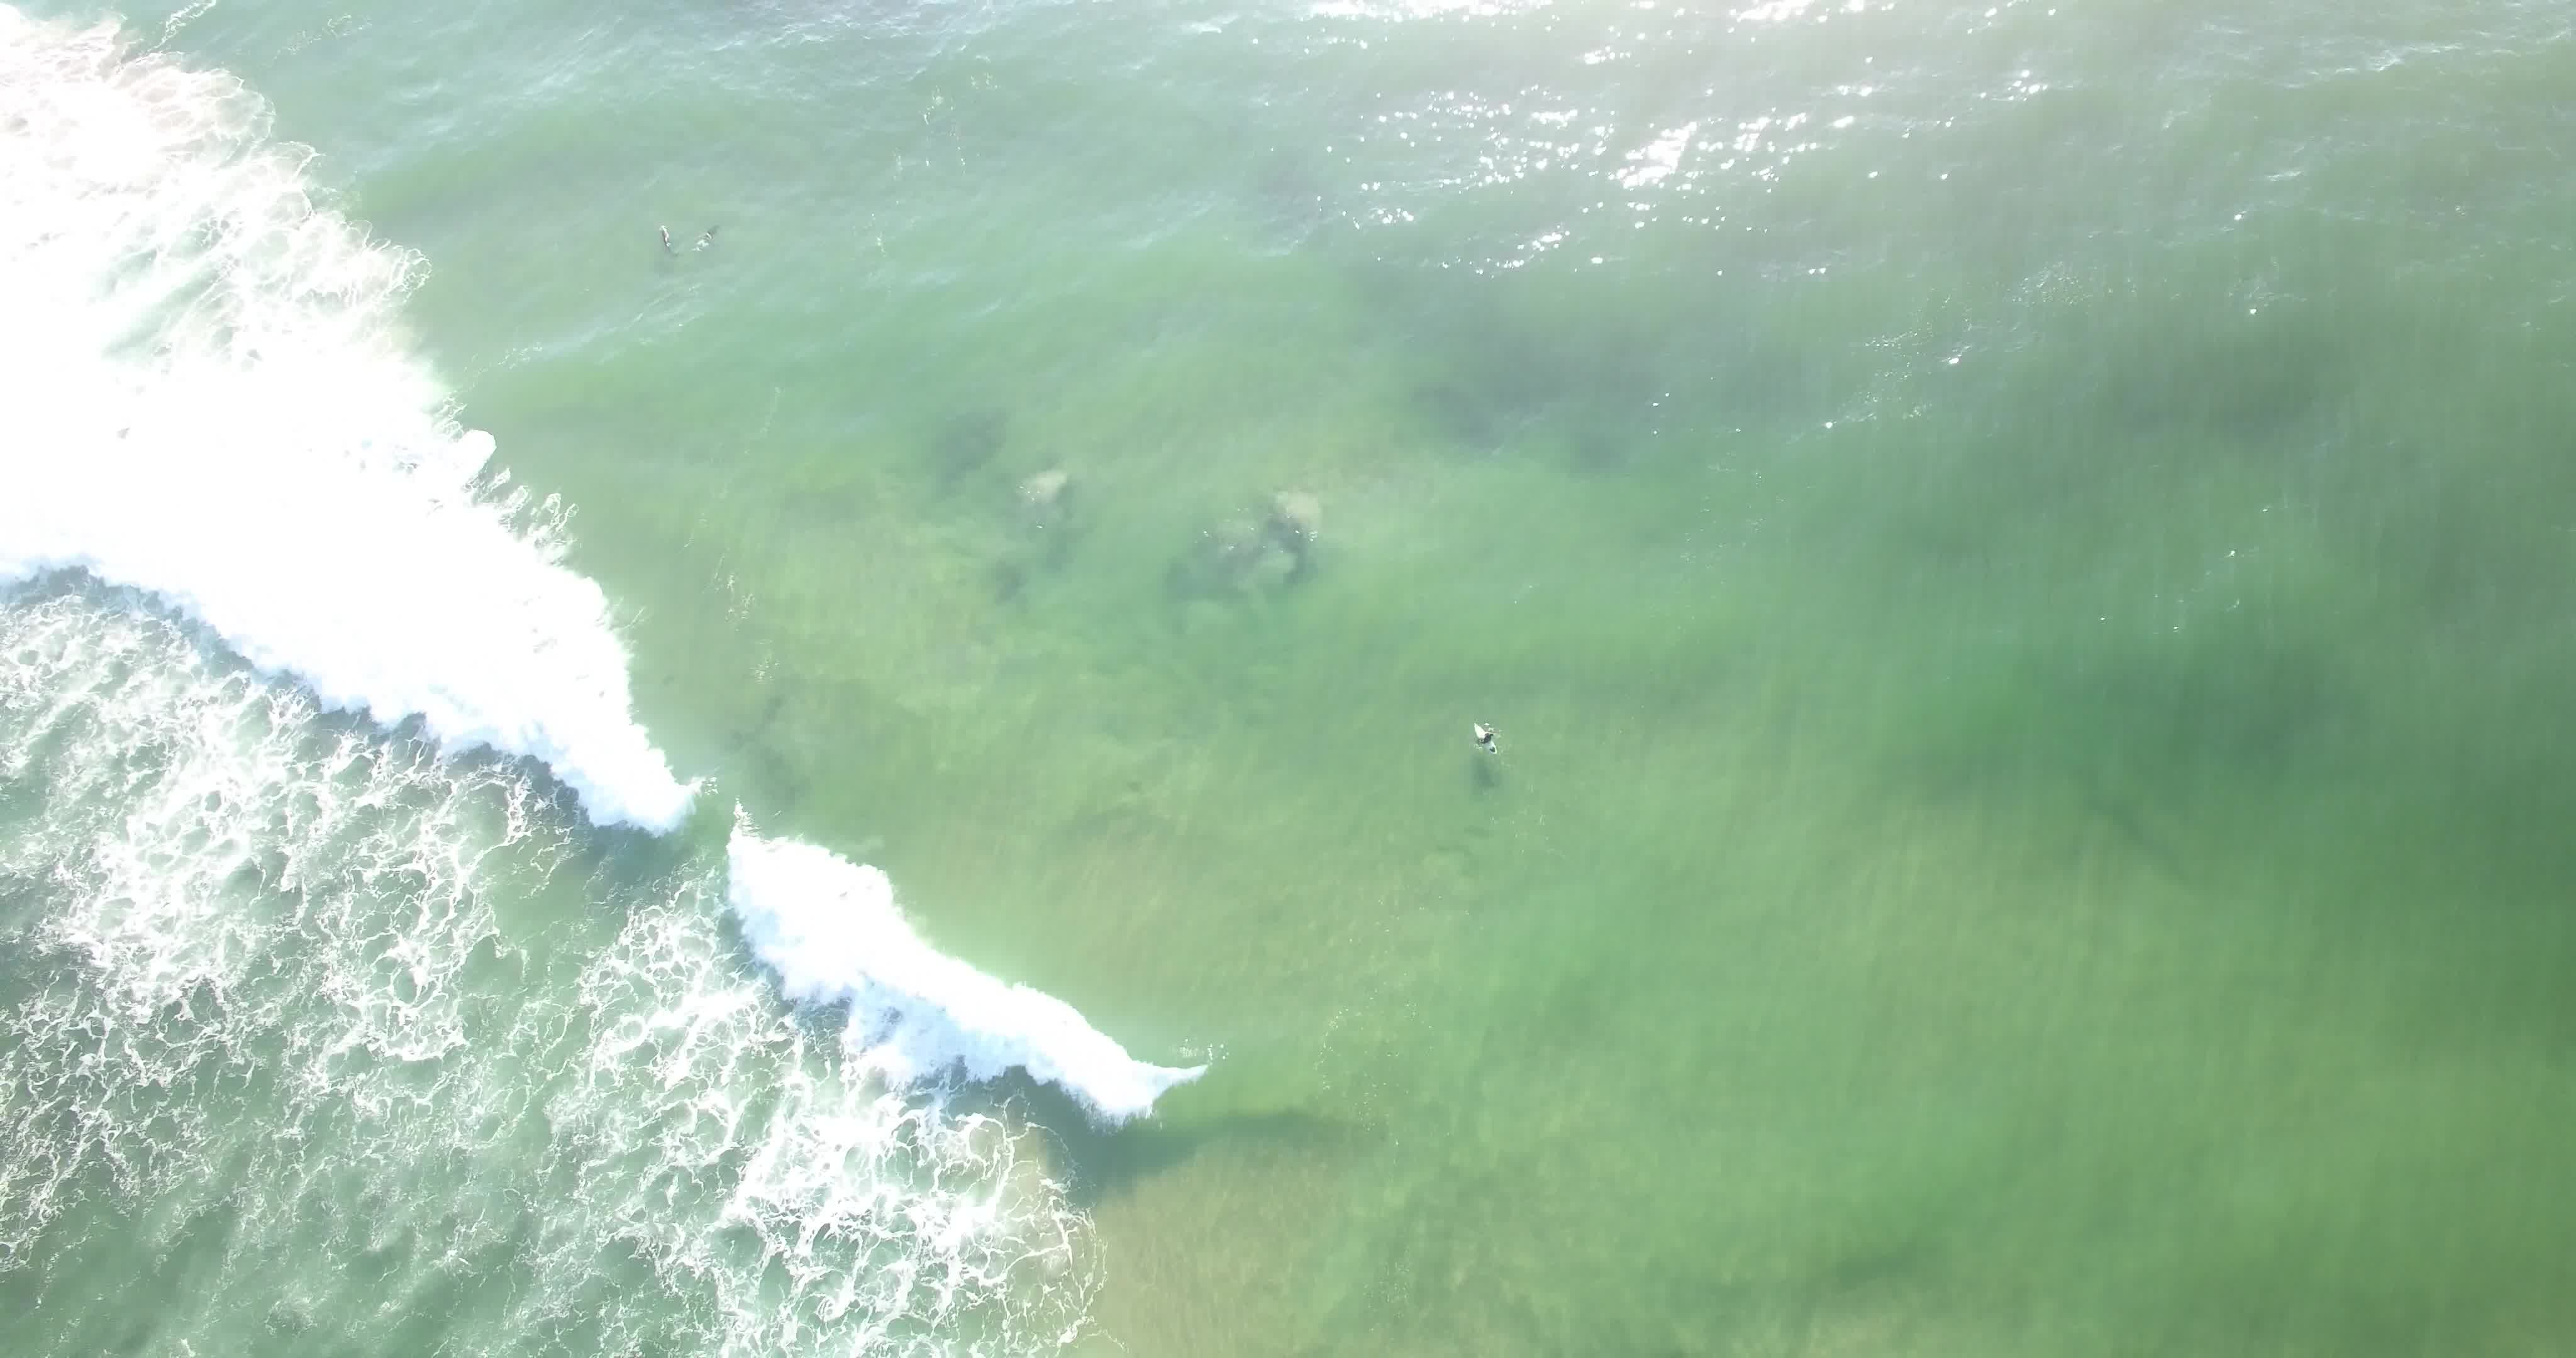dolphin: (680, 210, 736, 261), (644, 213, 690, 266)
